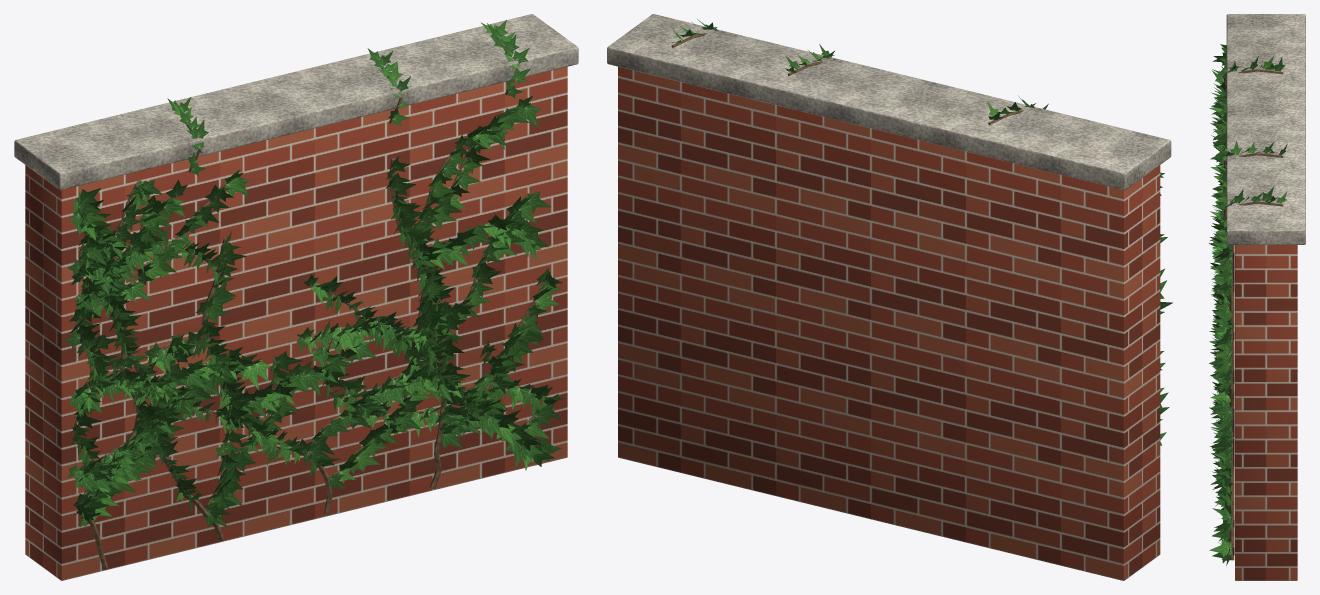
The model's file is ivy-covered-wall.glb.
The picture shows the model from 3 angles, left to right: view 1: azimuth 30°, elevation 25°; view 2: azimuth 150°, elevation 25°; view 3: azimuth 270°, elevation 25°; orthographic projection. The views are drawn at different scales.
Visible parts, largest first — view 1: Ivy_Covered_Wall; view 2: Ivy_Covered_Wall; view 3: Ivy_Covered_Wall.
Part boxes in pixels (box(x1,y1,x2,y2)): Ivy_Covered_Wall: box(14, 14, 578, 580); Ivy_Covered_Wall: box(607, 14, 1172, 580); Ivy_Covered_Wall: box(1209, 14, 1305, 580).
Size of the model in its own units: 2.47 by 1.97 by 0.4784.
5 materials, 5 textured.
